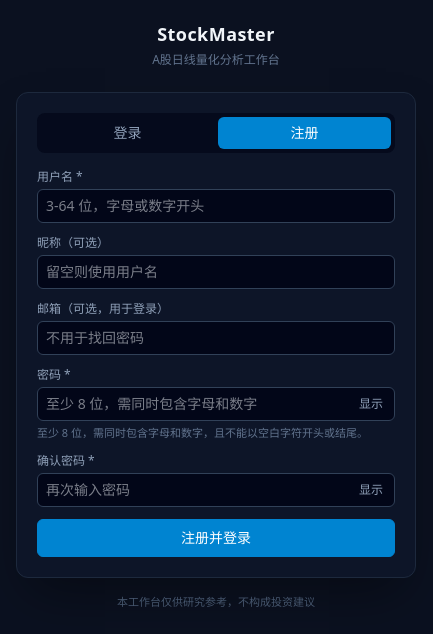
Test: 注册表单校验 › 密码缺少数字时提示规则
This screenshot has width=433, height=634.
In the field labelled "用户名 *": (216, 206) [37,188,395,222], type "alice"
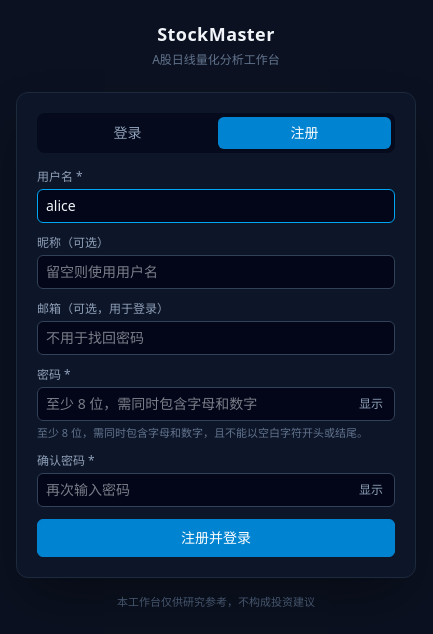
In the password field labelled "密码 *": (216, 404) [37,386,395,420], type "onlyletters"
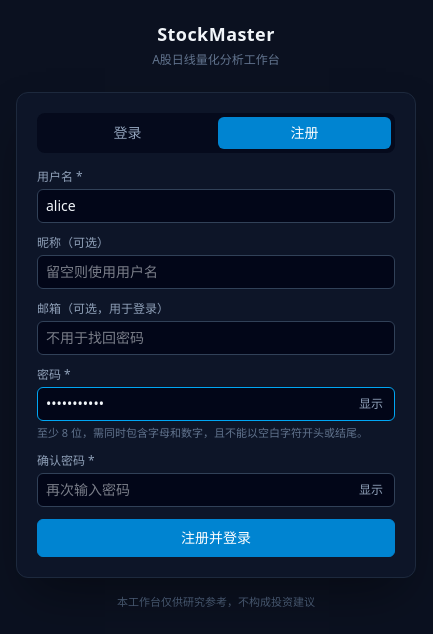
In the password field labelled "确认密码 *": (216, 490) [37,473,395,507], type "onlyletters"
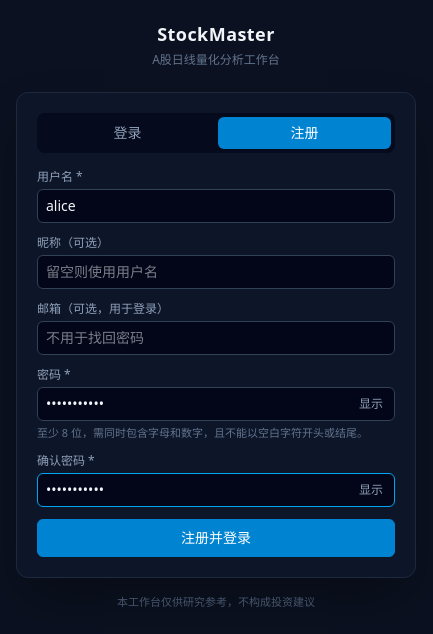
Click the button "注册并登录": (216, 538) [37,519,395,557]
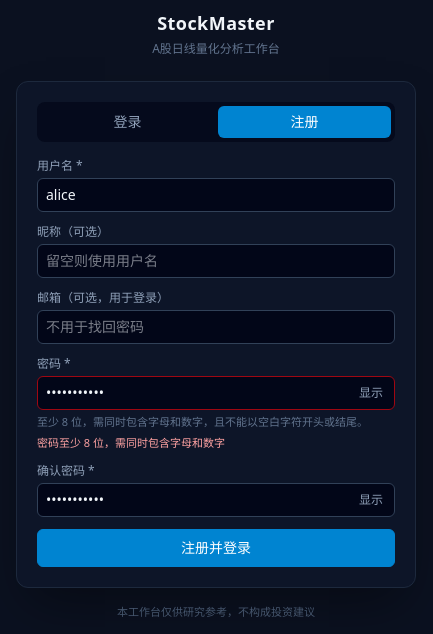
Check: the text "密码至少 8 位，需同时包含字母和数字" is shown, box [37,435,225,450]
